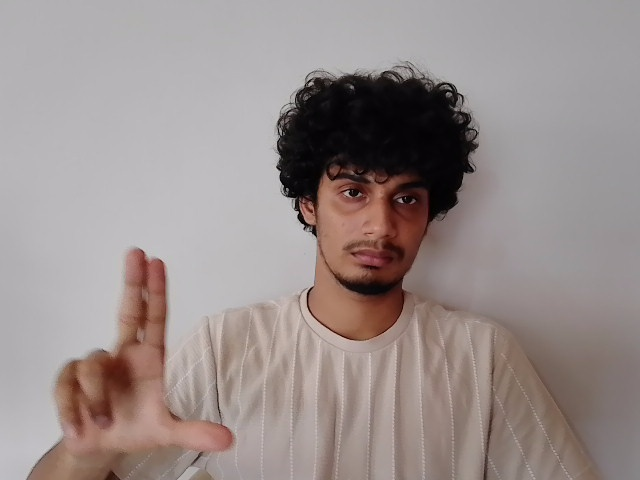no: (48, 241, 245, 453)
